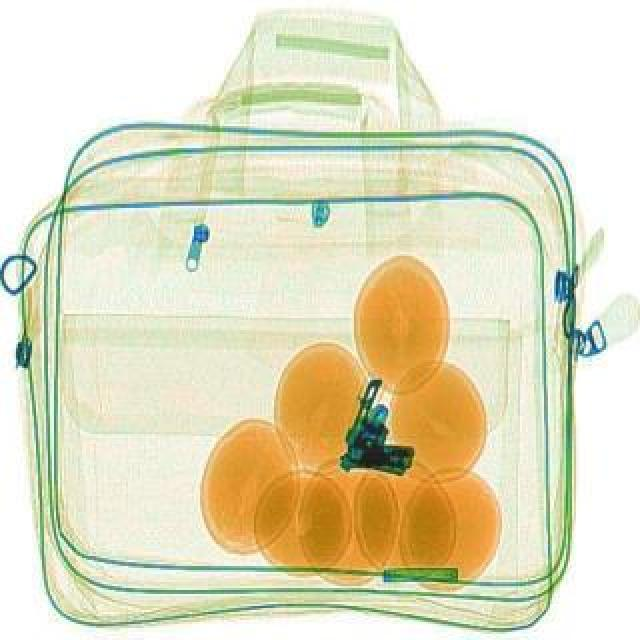gun: (332, 374, 432, 486), (344, 398, 432, 476)
